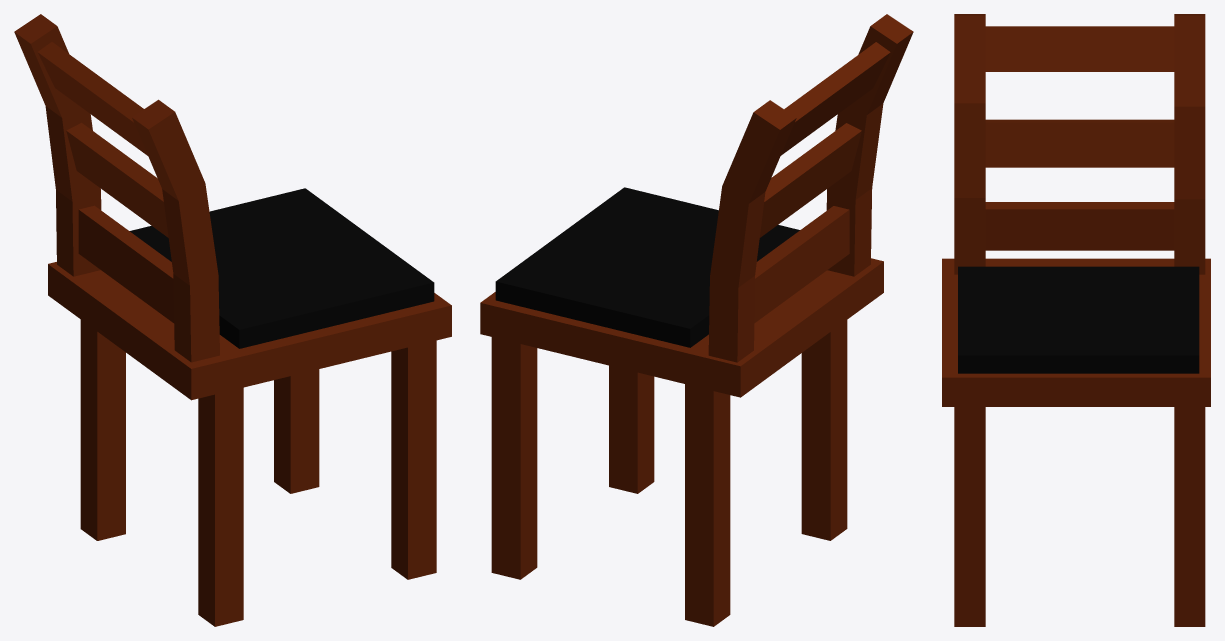
The model's file is wodden chair.fbx.
3 renders of one model, left to right at view 1: azimuth 30°, elevation 25°; view 2: azimuth 150°, elevation 25°; view 3: azimuth 270°, elevation 25°, orthographic. The views are drawn at different scales.
Parts seen in each view (by area): view 1: Cube; view 2: Cube; view 3: Cube.
Part boxes in pixels (box(x1,y1,x2,y2)): Cube: box(14, 14, 451, 626); Cube: box(480, 14, 913, 626); Cube: box(942, 14, 1210, 626).
Bounding box in the file's own units: 305 × 515 × 255.
